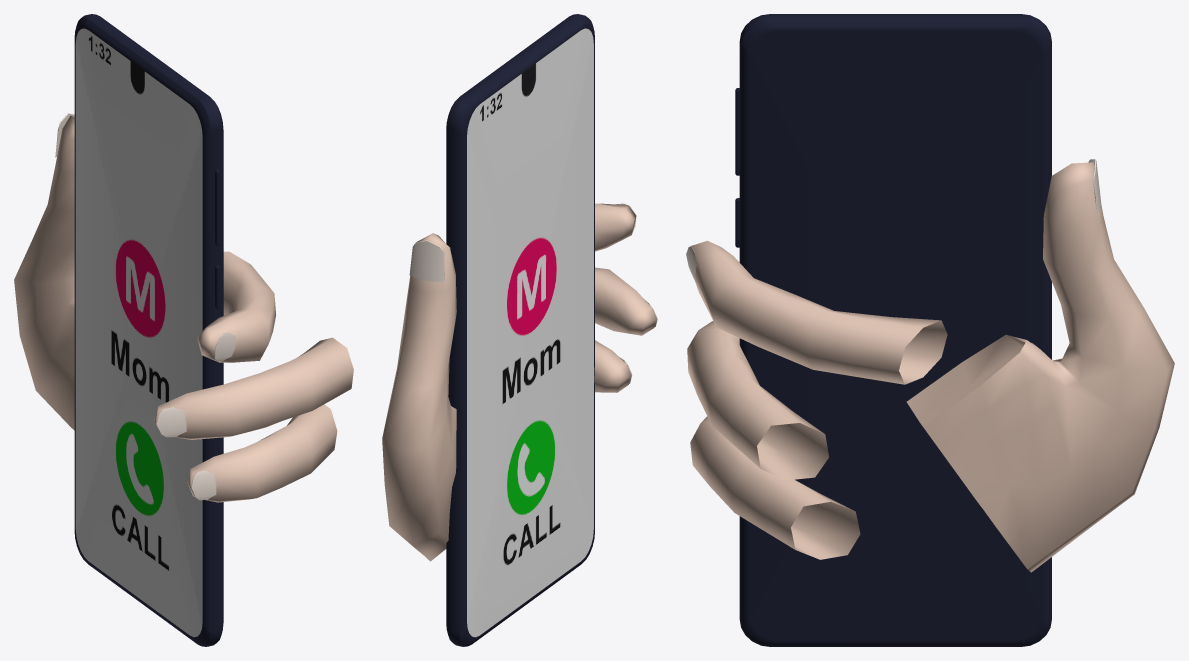
Rendered from Phone_M.fbx.
3 renders of one model, left to right at view 1: azimuth 30°, elevation 25°; view 2: azimuth 150°, elevation 25°; view 3: azimuth 270°, elevation 25°, orthographic. The views are drawn at different scales.
Parts seen in each view (by area): view 1: Phone, Thumb, Ring_finger, Pinky, Middle_finger; view 2: Phone, Thumb, Ring_finger, Middle_finger, Pinky; view 3: Phone, Thumb, Middle_finger, Ring_finger, Pinky.
Boxes of the visible parts, left/top/right/bottom form: Phone: left=74, top=14, right=223, bottom=646; Thumb: left=14, top=113, right=74, bottom=430; Ring_finger: left=154, top=337, right=353, bottom=439; Pinky: left=187, top=404, right=337, bottom=502; Middle_finger: left=197, top=251, right=275, bottom=362; Phone: left=446, top=14, right=594, bottom=646; Thumb: left=382, top=233, right=456, bottom=561; Ring_finger: left=595, top=267, right=657, bottom=335; Middle_finger: left=595, top=203, right=636, bottom=251; Pinky: left=594, top=340, right=632, bottom=392; Phone: left=735, top=14, right=1051, bottom=646; Thumb: left=906, top=159, right=1174, bottom=572; Middle_finger: left=686, top=240, right=947, bottom=384; Ring_finger: left=687, top=321, right=828, bottom=480; Pinky: left=690, top=416, right=860, bottom=559.
Size of the model in its own units: 6.4 by 16 by 11.27.
